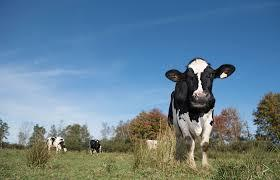cow: (165, 58, 236, 170), (48, 136, 67, 155), (89, 139, 101, 156)
